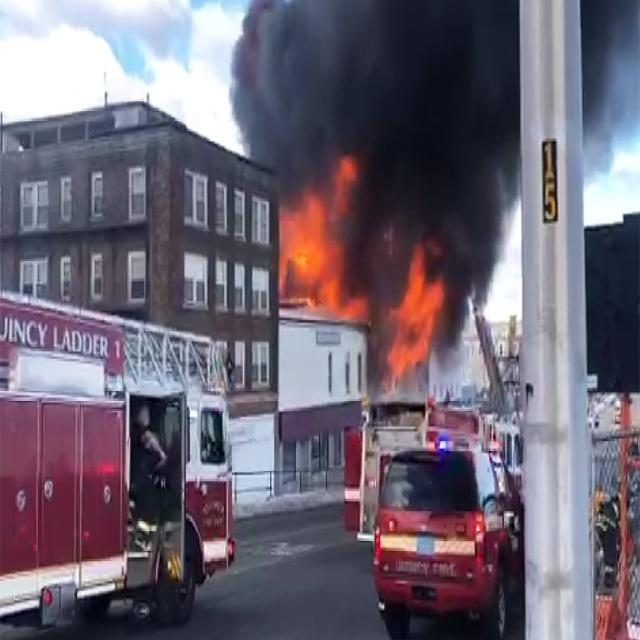Fire: (280, 151, 368, 323), (384, 239, 444, 387)
Smoke: (229, 0, 523, 174), (439, 175, 522, 349), (582, 0, 640, 186), (346, 162, 410, 304), (406, 166, 443, 238)
